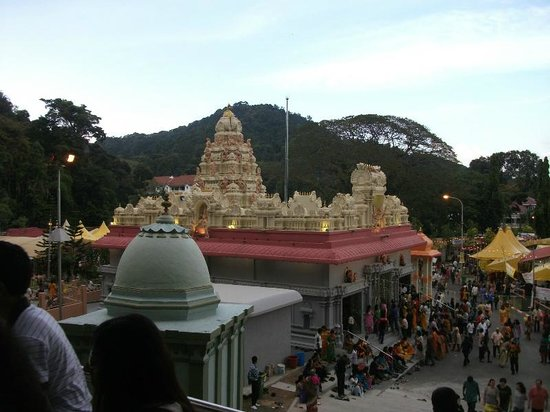Hindu Temple: (122, 114, 418, 257)
